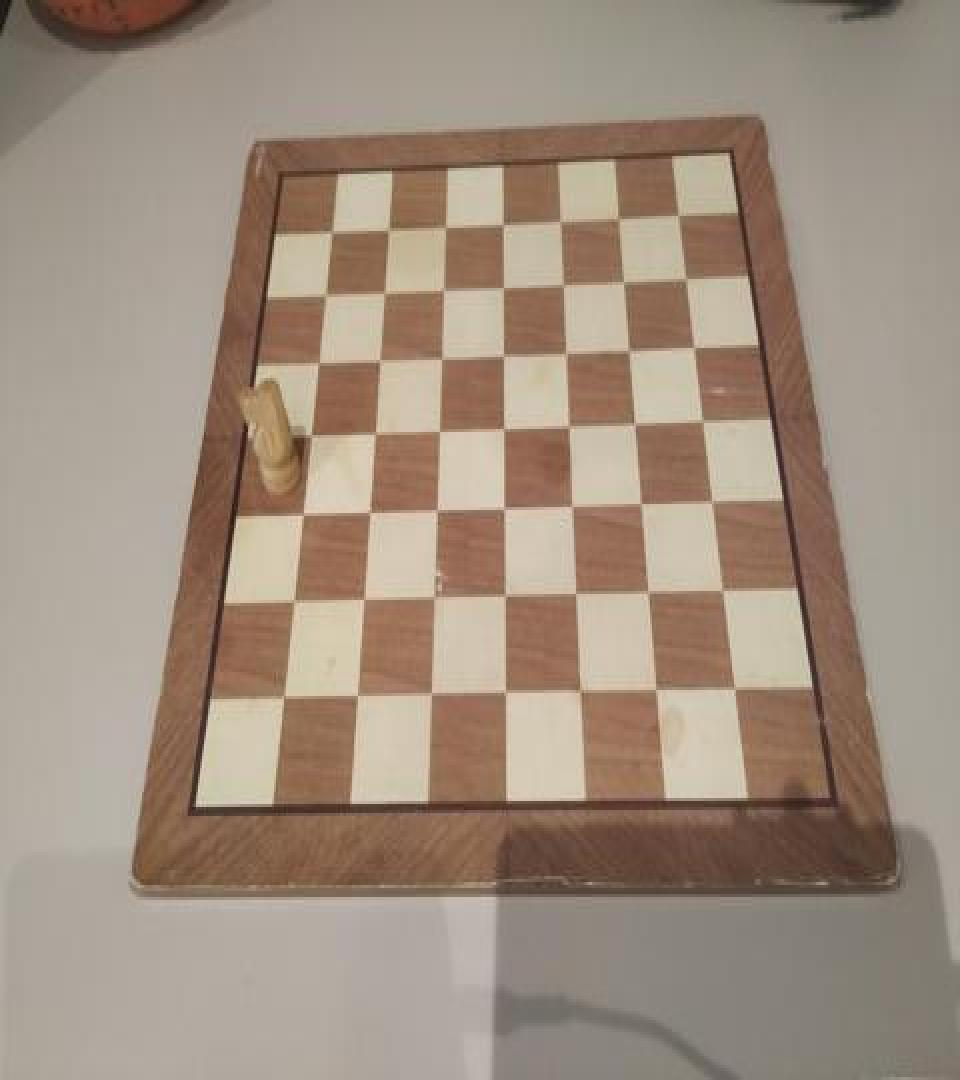xcorner: (610, 199, 630, 230), (274, 680, 294, 710), (347, 678, 367, 708), (421, 676, 441, 706), (496, 675, 516, 705), (571, 675, 591, 705), (724, 672, 744, 702), (284, 584, 304, 614), (424, 579, 444, 609), (496, 578, 516, 608), (567, 576, 587, 606), (640, 574, 660, 604), (713, 573, 733, 603), (293, 495, 313, 525), (360, 494, 380, 524), (427, 492, 447, 522), (495, 489, 515, 519), (564, 488, 584, 518), (633, 486, 653, 516), (702, 483, 722, 513), (302, 416, 322, 446), (366, 412, 386, 442), (430, 411, 450, 441), (495, 410, 515, 440), (561, 406, 581, 436), (626, 405, 646, 435), (693, 402, 713, 432), (310, 342, 330, 372), (371, 339, 391, 369), (433, 338, 453, 368), (495, 334, 515, 364), (558, 333, 578, 363), (621, 330, 641, 360), (684, 328, 704, 358), (317, 274, 337, 304), (376, 272, 396, 302), (435, 270, 455, 300), (495, 267, 515, 297), (555, 264, 575, 294), (615, 262, 635, 292), (676, 260, 696, 290), (324, 213, 344, 243), (380, 210, 400, 240), (437, 207, 457, 237), (495, 204, 515, 234), (552, 202, 572, 232), (669, 196, 689, 226), (648, 674, 668, 703), (354, 581, 374, 610)
